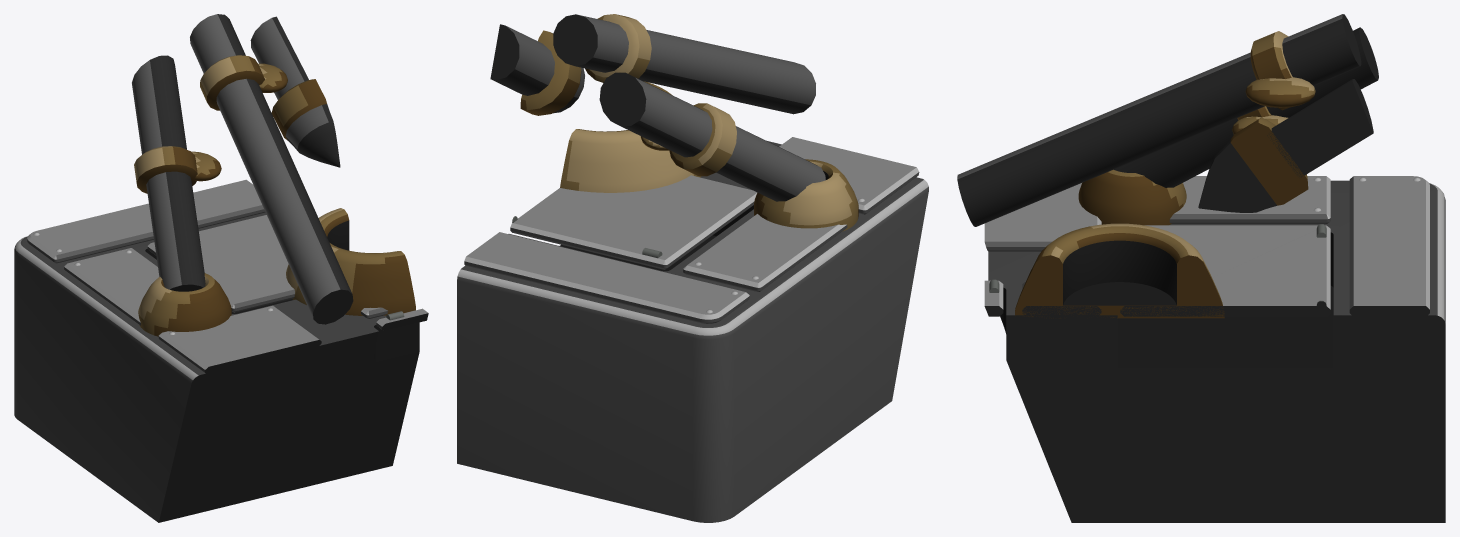
The model's file is asteroid_rig_tl.glb.
The picture shows the model from 3 angles, left to right: view 1: azimuth 30°, elevation 25°; view 2: azimuth 150°, elevation 25°; view 3: azimuth 270°, elevation 25°; orthographic projection. The views are drawn at different scales.
Parts seen in each view (by area): view 1: asteroid_rig_tl; view 2: asteroid_rig_tl; view 3: asteroid_rig_tl.
Part boxes in pixels (x1,y1,x2,y2): asteroid_rig_tl: [14, 14, 428, 522]; asteroid_rig_tl: [457, 14, 928, 522]; asteroid_rig_tl: [957, 14, 1445, 522].
Bounding box in the file's own units: 20 × 31.47 × 29.84.
